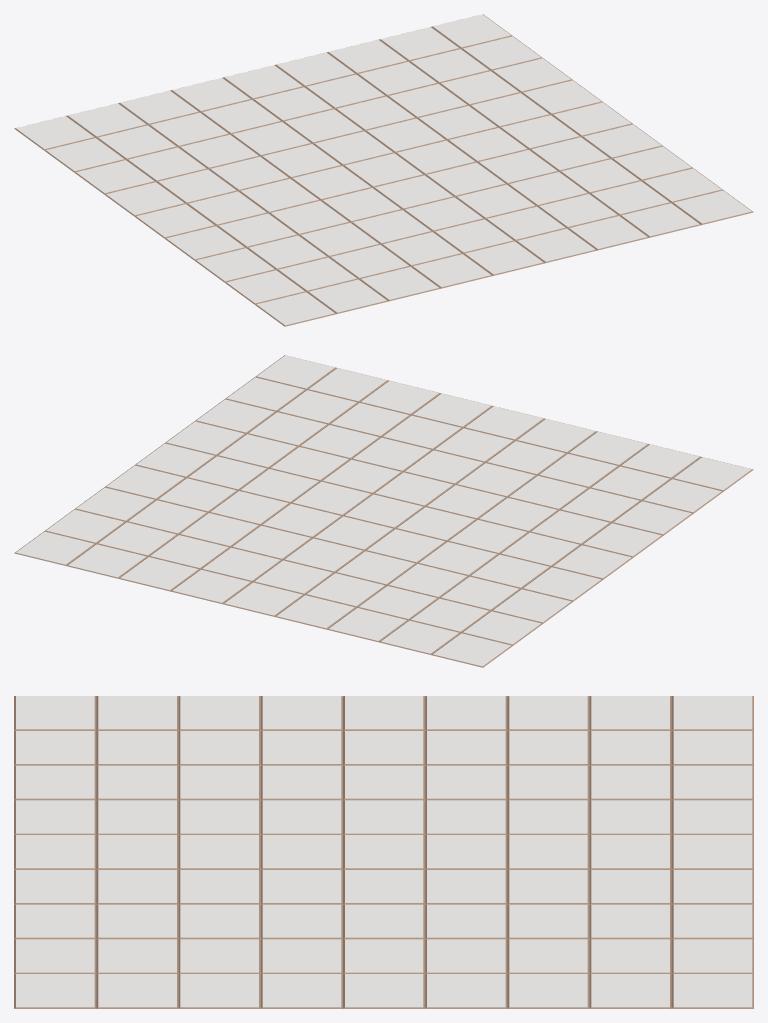
File: Floortile_1.fbx
3 renders of one model, top to bottom at view 1: azimuth 30°, elevation 25°; view 2: azimuth 150°, elevation 25°; view 3: azimuth 270°, elevation 25°, orthographic. The views are drawn at different scales.
Parts seen in each view (by area): view 1: Floortile_1; view 2: Floortile_1; view 3: Floortile_1.
Part boxes in pixels (x1,y1,x2,y2): Floortile_1: (14, 14, 753, 326); Floortile_1: (14, 355, 753, 667); Floortile_1: (14, 696, 753, 1008).
Size of the model in its own units: 489 by 489 by 0.6006.
